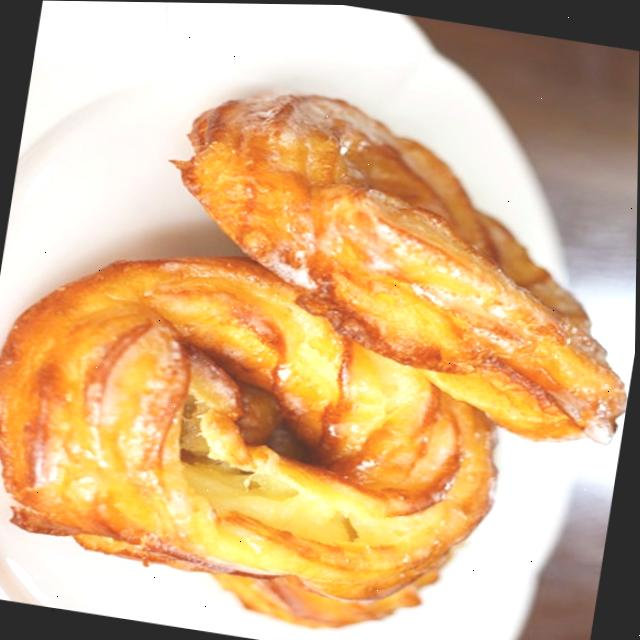炸货点心: (0, 51, 639, 640)
